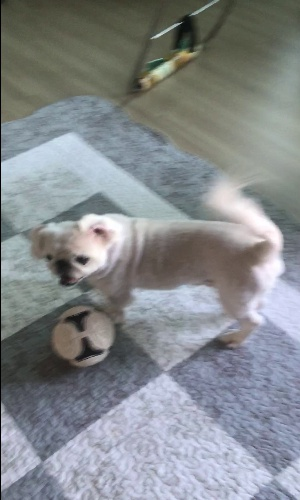ddubi: (24, 169, 293, 353)
